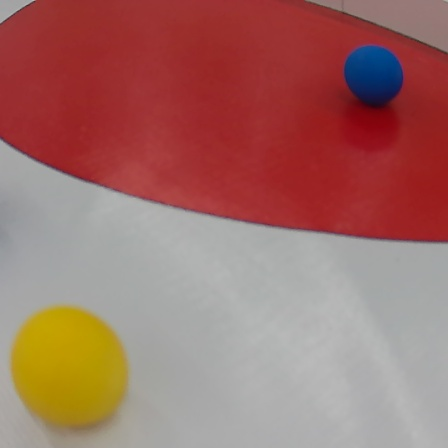blue: (339, 39, 407, 112)
red_base: (0, 0, 447, 249)
yellow: (8, 303, 132, 431)
